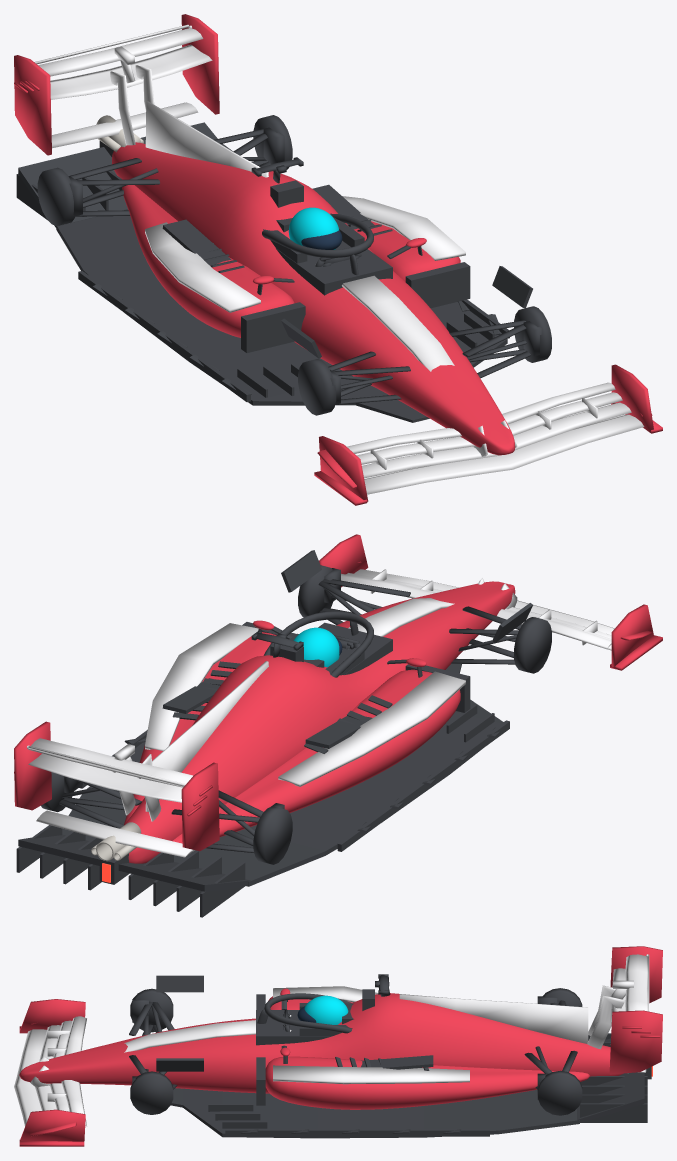
File: f1_car.glb
3 views of the same model, one above another, from view 1: azimuth 30°, elevation 25°; view 2: azimuth 150°, elevation 25°; view 3: azimuth 270°, elevation 25° (orthographic). The views are drawn at different scales.
Visible parts, largest first — view 1: Body_Main, Carbon_Chassis, Front_Wing_Main, Body_Accent, Suspension_Arms, Rear_Wing_Main, Rear_Wing_Endplate_L, Rear_Wing_DRS_Flap, Front_Wing_Endplate_L, Rear_Wing_Endplate_R, Front_Wing_Endplate_R, Halo_Titanium (+1 smaller); view 2: Body_Main, Carbon_Chassis, Body_Accent, Suspension_Arms, Rear_Wing_Main, Front_Wing_Main, Rear_Wing_Endplate_L, Rear_Wing_DRS_Flap, Rear_Wing_Endplate_R, Front_Wing_Endplate_L, Halo_Titanium, Front_Wing_Endplate_R (+2 smaller); view 3: Body_Main, Carbon_Chassis, Body_Accent, Suspension_Arms, Front_Wing_Main, Rear_Wing_Endplate_R, Front_Wing_Endplate_R, Rear_Wing_Main, Front_Wing_Endplate_L, Rear_Wing_DRS_Flap, Rear_Wing_Endplate_L, Halo_Titanium (+1 smaller).
Boxes of the visible parts, x1,y1,x2,y2 form: Body_Main: [112, 142, 515, 455]; Carbon_Chassis: [16, 122, 532, 422]; Front_Wing_Main: [347, 382, 644, 494]; Body_Accent: [145, 101, 465, 371]; Suspension_Arms: [37, 115, 551, 415]; Rear_Wing_Main: [50, 44, 212, 148]; Rear_Wing_Endplate_L: [14, 55, 51, 155]; Rear_Wing_DRS_Flap: [34, 24, 203, 76]; Front_Wing_Endplate_L: [314, 436, 368, 505]; Rear_Wing_Endplate_R: [181, 14, 219, 114]; Front_Wing_Endplate_R: [611, 364, 662, 433]; Halo_Titanium: [262, 214, 373, 275]; Body_Main: [124, 581, 515, 863]; Carbon_Chassis: [16, 550, 532, 917]; Body_Accent: [145, 598, 465, 811]; Suspension_Arms: [41, 565, 551, 864]; Rear_Wing_Main: [28, 744, 194, 857]; Front_Wing_Main: [341, 569, 614, 650]; Rear_Wing_Endplate_L: [181, 762, 219, 851]; Rear_Wing_DRS_Flap: [27, 738, 192, 787]; Rear_Wing_Endplate_R: [14, 721, 51, 810]; Front_Wing_Endplate_L: [610, 604, 662, 670]; Halo_Titanium: [264, 611, 373, 677]; Front_Wing_Endplate_R: [319, 534, 368, 587]; Body_Main: [19, 988, 623, 1109]; Carbon_Chassis: [156, 975, 651, 1138]; Body_Accent: [124, 986, 588, 1084]; Suspension_Arms: [129, 988, 582, 1115]; Front_Wing_Main: [14, 1016, 86, 1126]; Rear_Wing_Endplate_R: [609, 1010, 662, 1074]; Front_Wing_Endplate_R: [19, 1109, 85, 1146]; Rear_Wing_Main: [587, 968, 646, 1073]; Front_Wing_Endplate_L: [19, 999, 85, 1033]; Rear_Wing_DRS_Flap: [625, 954, 649, 1011]; Rear_Wing_Endplate_L: [610, 946, 662, 1003]; Halo_Titanium: [257, 993, 351, 1033].
Bounding box in the file's own units: 2.02 × 0.8731 × 4.61.
